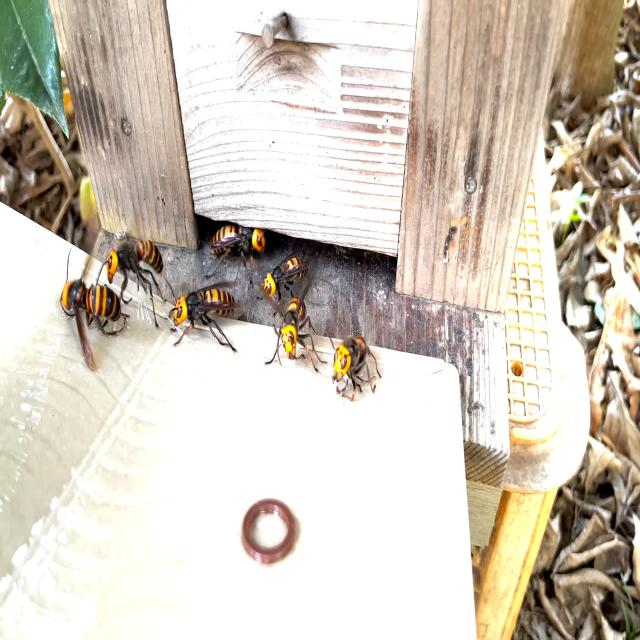Hornets: (60, 244, 130, 369), (100, 225, 176, 327), (259, 278, 327, 374), (168, 276, 240, 356), (329, 322, 382, 402), (255, 249, 312, 308), (206, 225, 268, 270)
